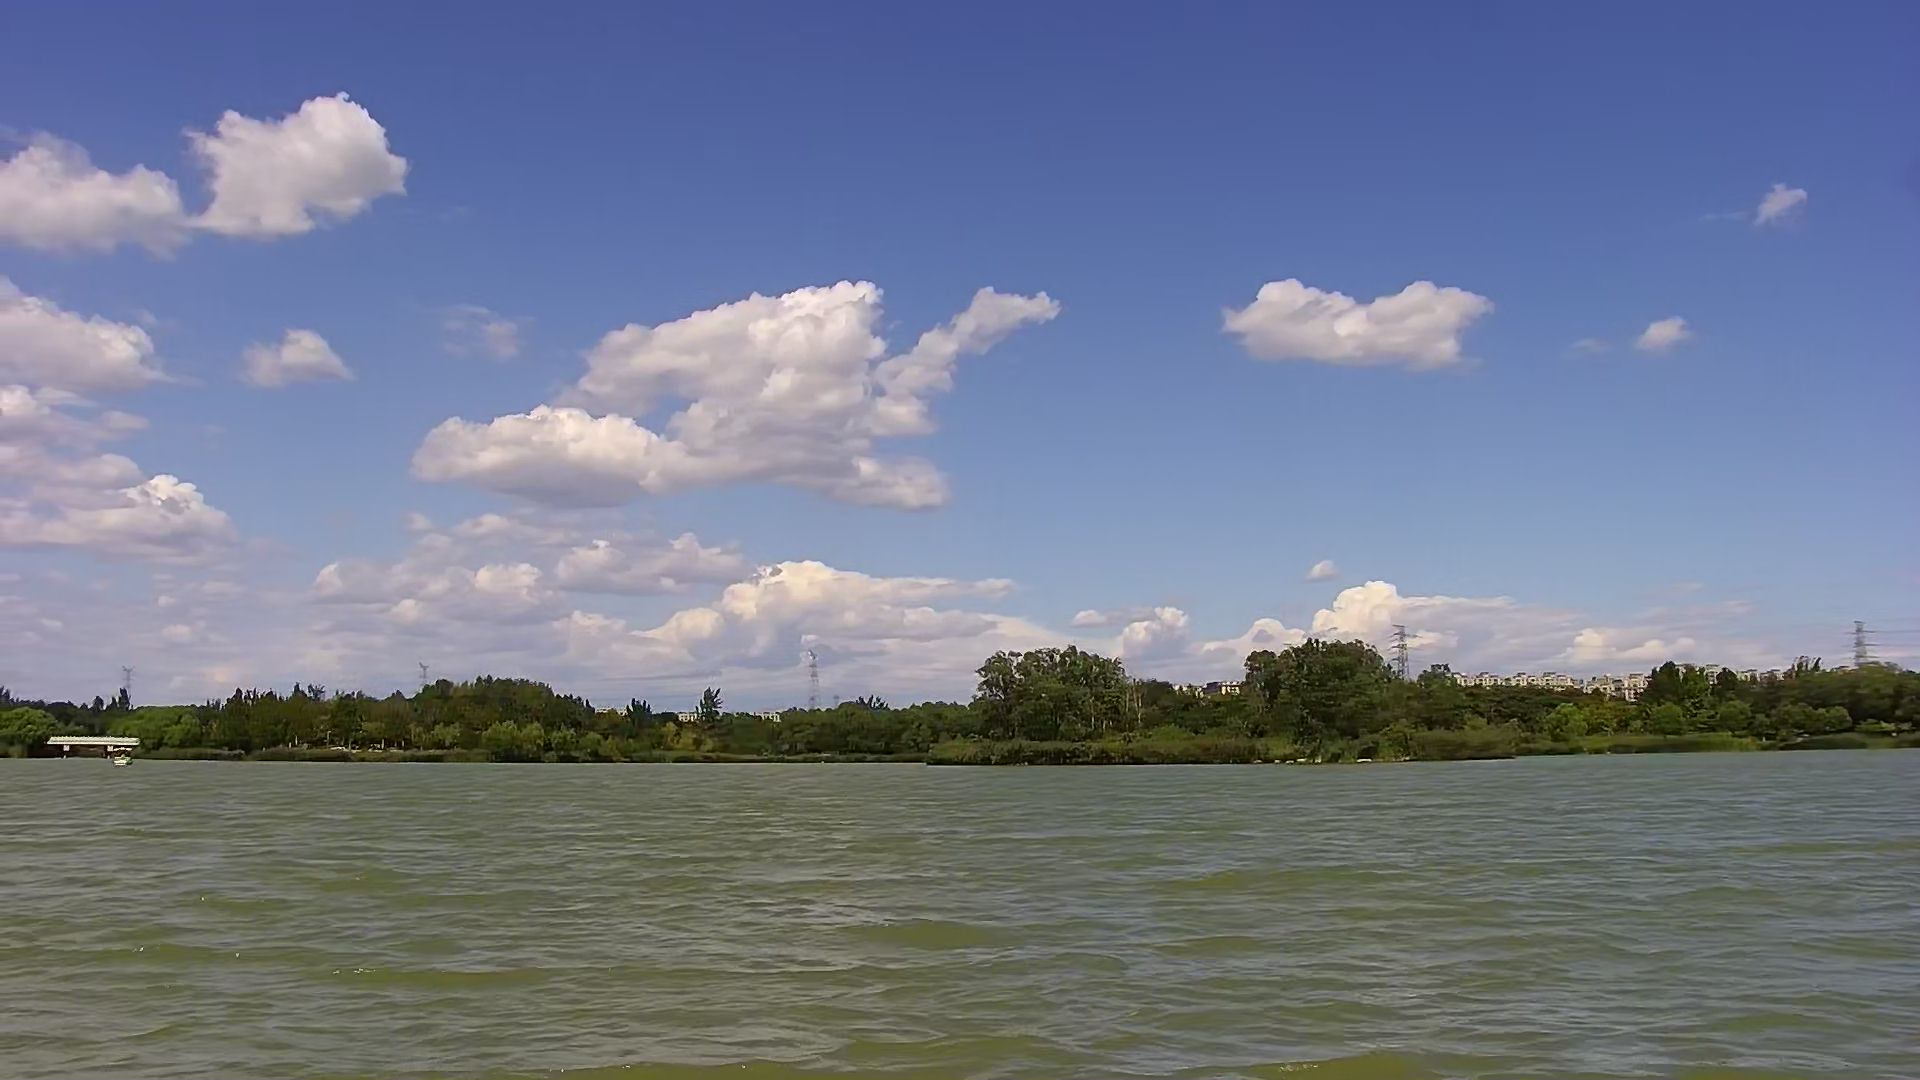boat: (111, 742, 141, 775)
bridge: (44, 727, 138, 762)
